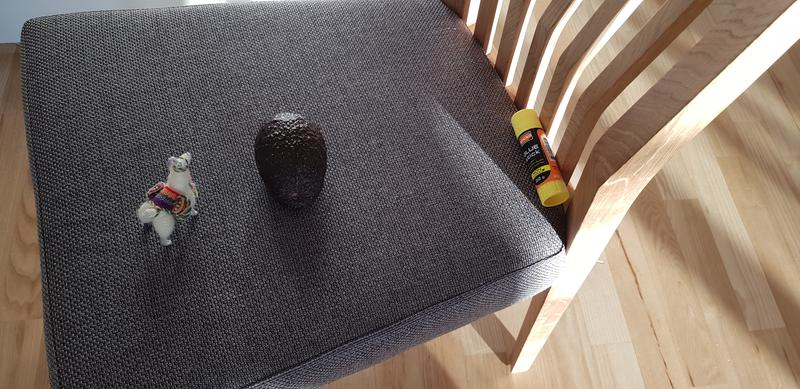Avocado: (247, 110, 333, 218)
Glue-Stick: (498, 104, 574, 212)
Horse-Toy: (128, 148, 209, 253)
